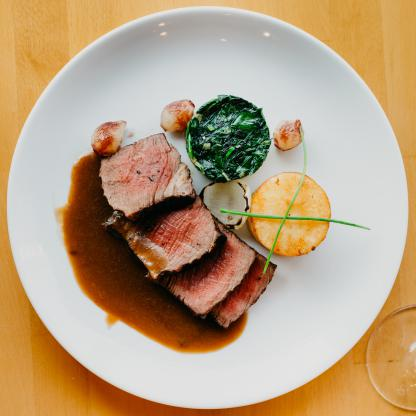Carne: (168, 223, 260, 324), (96, 130, 199, 219), (118, 206, 224, 286)
